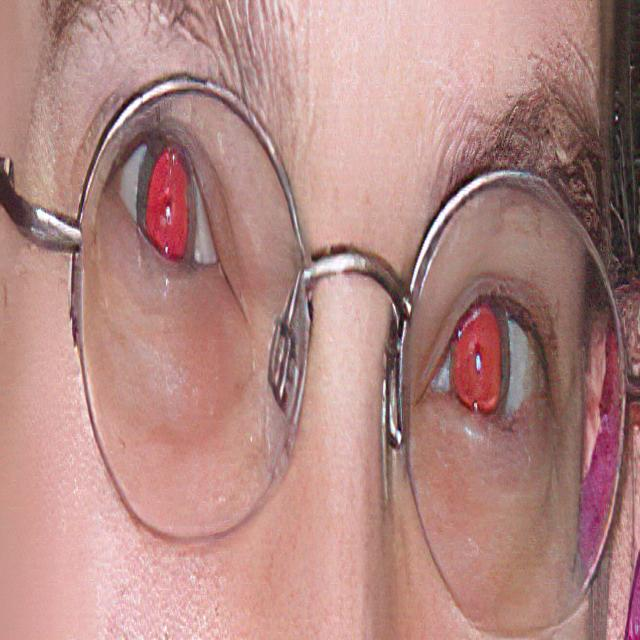reflexo-normal: (111, 107, 223, 330), (428, 301, 542, 451)
